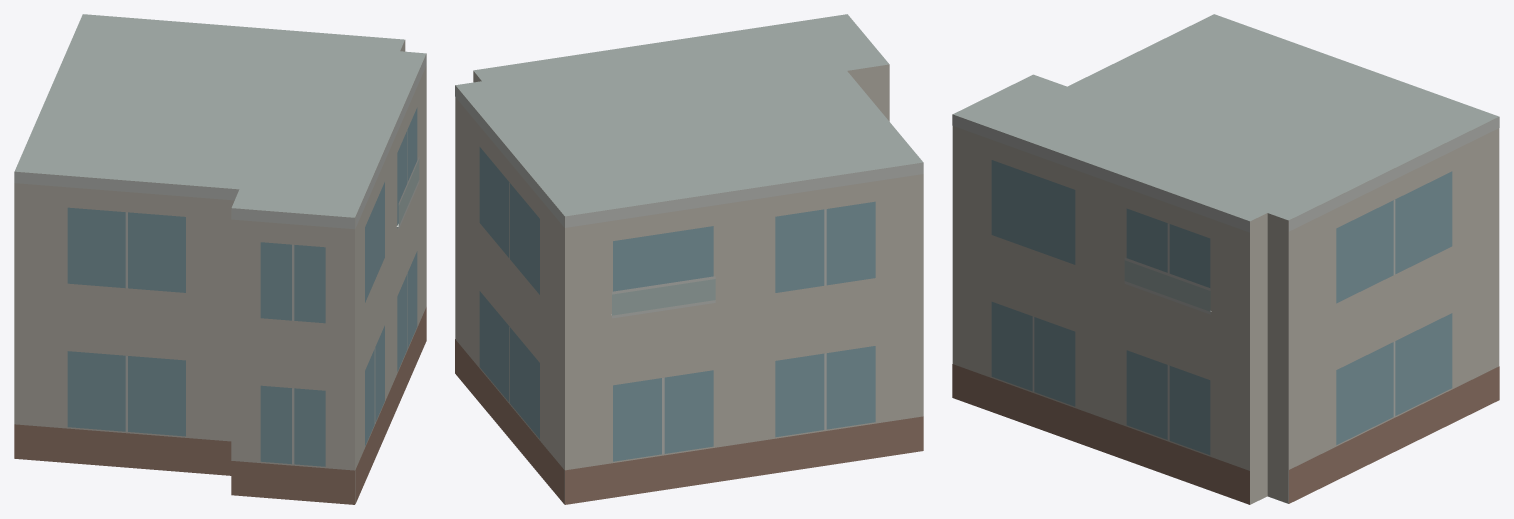
File: survey-upis-32956885.glb
3 views of the same model, side by side, from view 1: azimuth 30°, elevation 25°; view 2: azimuth 150°, elevation 25°; view 3: azimuth 270°, elevation 25° (orthographic).
Parts seen in each view (by area): view 1: survey-upis-32956885.tmp; view 2: survey-upis-32956885.tmp; view 3: survey-upis-32956885.tmp.
Part boxes in pixels (bbox=[...]): survey-upis-32956885.tmp: bbox=[14, 14, 426, 504]; survey-upis-32956885.tmp: bbox=[455, 14, 923, 504]; survey-upis-32956885.tmp: bbox=[952, 14, 1499, 504].
Size of the model in its own units: 9.58 by 6.1 by 10.67.
